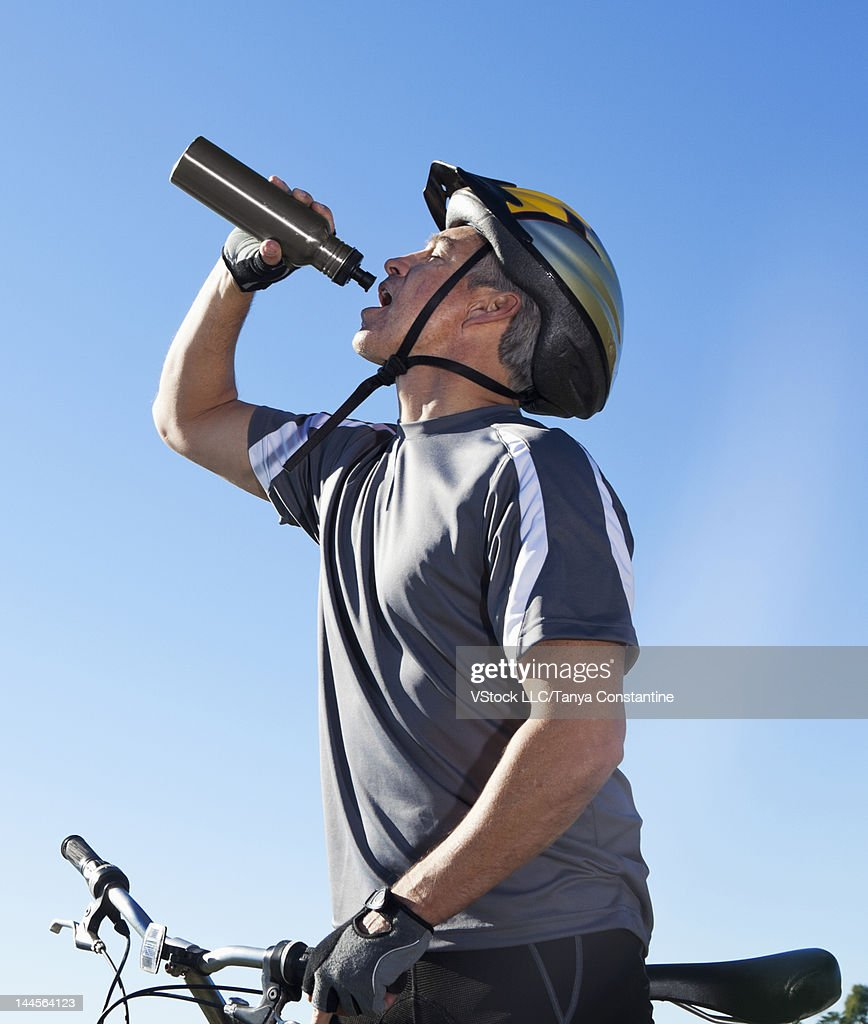helmet: (352, 160, 625, 420)
